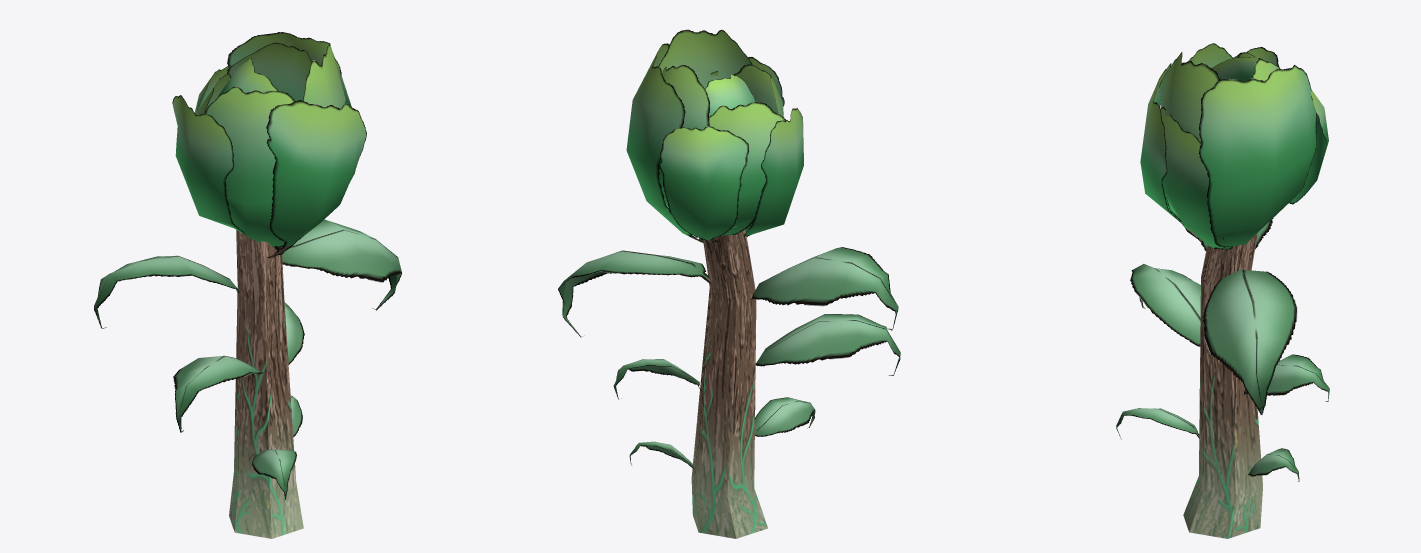
Rendered from world tree.fbx.
3 views of the same model, side by side, from view 1: azimuth 30°, elevation 25°; view 2: azimuth 150°, elevation 25°; view 3: azimuth 270°, elevation 25° (orthographic). The views are drawn at different scales.
Parts seen in each view (by area): view 1: world_tree; view 2: world_tree; view 3: world_tree.
Boxes of the visible parts, bbox=[...] form: world_tree: bbox=[94, 32, 401, 538]; world_tree: bbox=[558, 29, 900, 538]; world_tree: bbox=[1116, 43, 1329, 538].
Size of the model in its own units: 34.22 by 46.24 by 31.89.
1 material, 1 textured.
